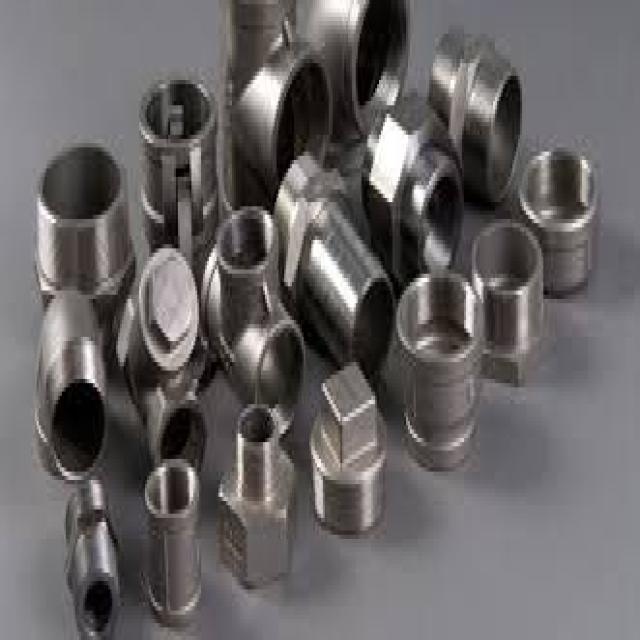Dry Waste: (3, 35, 524, 366)
